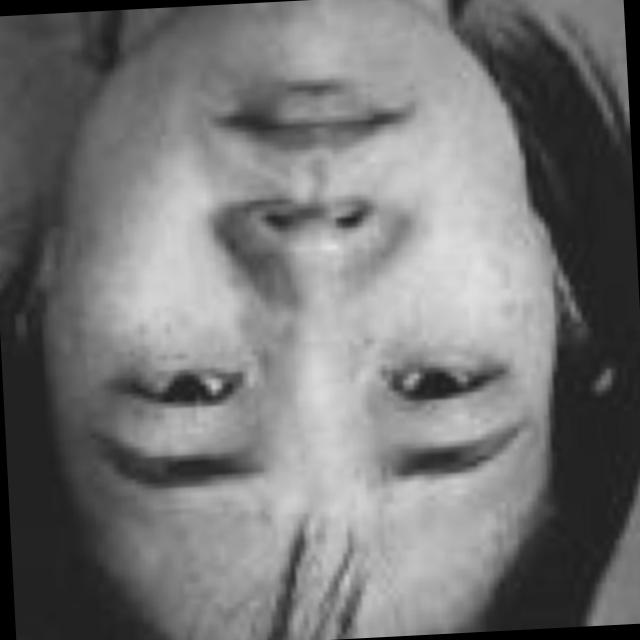sad: (38, 15, 584, 588)
